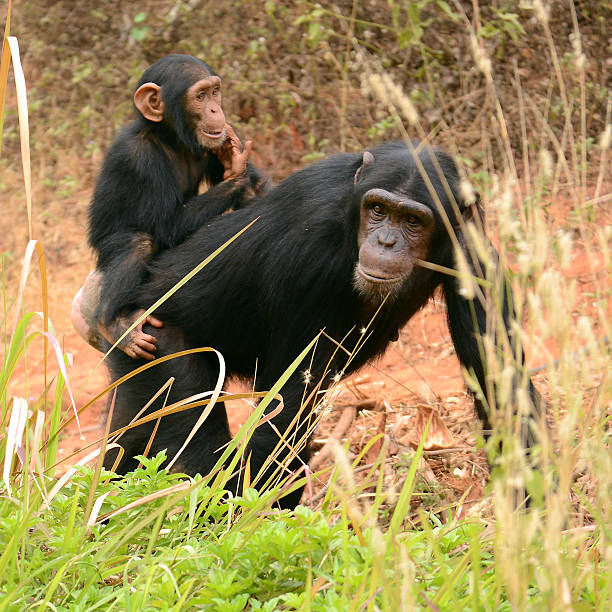chimpanzee: (322, 127, 502, 318), (128, 43, 261, 167)
